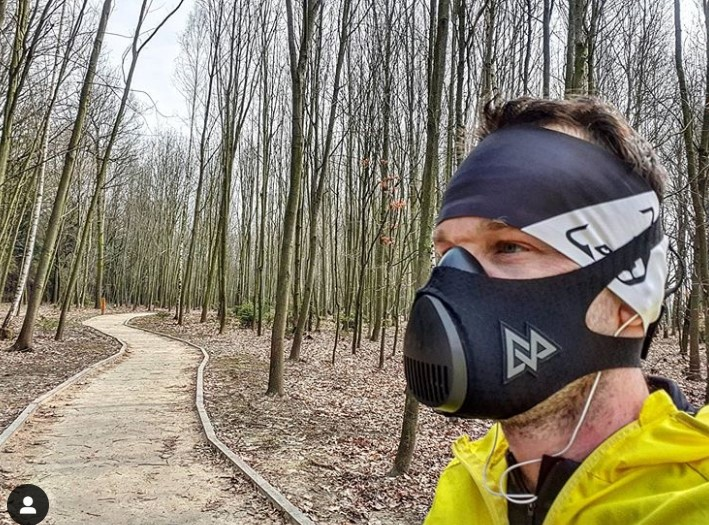face_with_mask: (404, 101, 672, 423)
